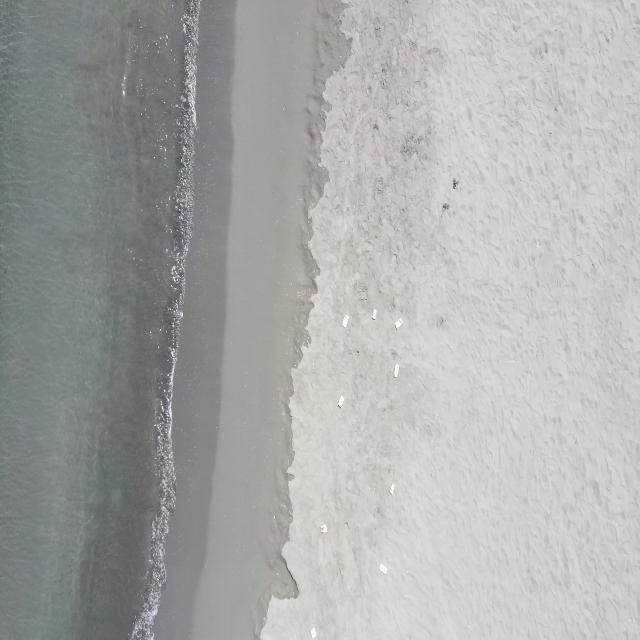Garbage: (337, 396, 344, 407), (395, 318, 402, 327), (320, 523, 327, 532), (380, 563, 387, 572), (343, 316, 348, 327), (393, 363, 397, 376), (310, 627, 315, 637), (388, 484, 393, 493), (372, 308, 375, 319)
